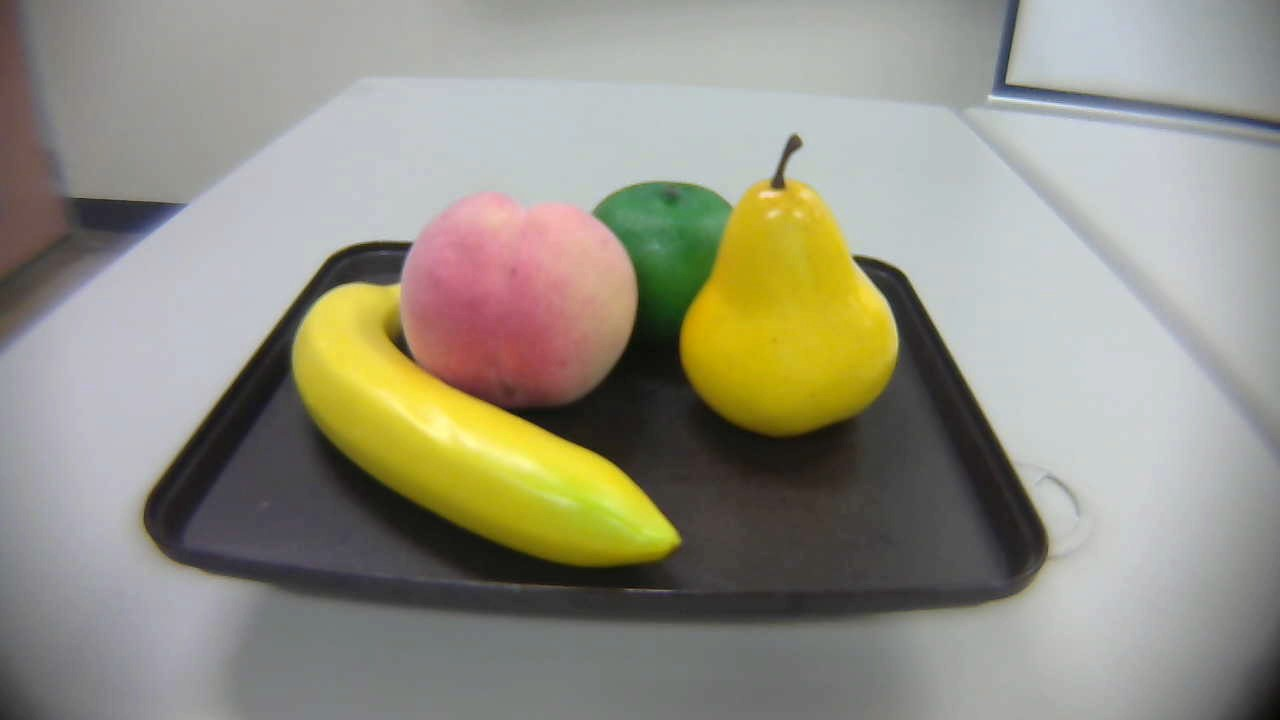banana: (285, 269, 688, 578)
green orange: (593, 180, 759, 346)
peach: (391, 191, 642, 405)
yellow pear: (659, 134, 915, 447)
